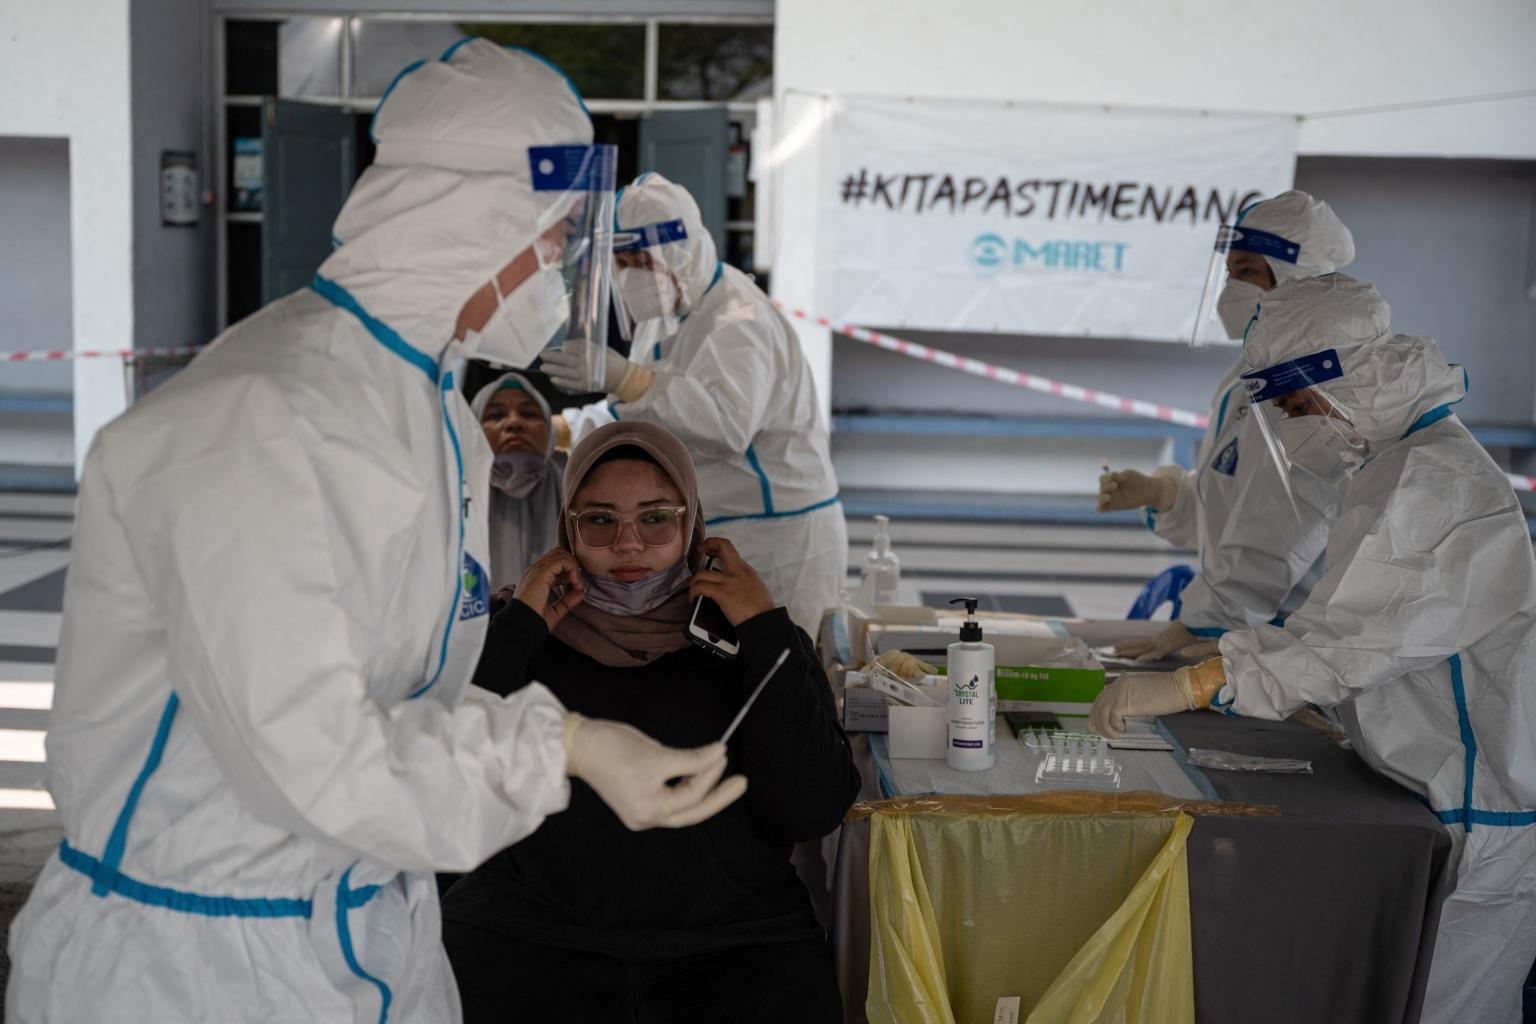Coverall: (21, 16, 612, 1021), (1230, 282, 1536, 1024), (592, 166, 859, 709), (1171, 185, 1425, 682)
Face_Shield: (468, 140, 625, 378), (1239, 345, 1365, 551), (1187, 214, 1300, 369), (605, 214, 687, 346)
Gloves: (552, 697, 772, 832), (1087, 653, 1231, 746), (1087, 454, 1202, 526)
mask_weared_incorrect: (569, 443, 698, 629), (479, 385, 556, 501)
with_mask: (445, 179, 602, 373), (1273, 375, 1372, 484), (609, 241, 681, 337), (1212, 243, 1276, 344)
